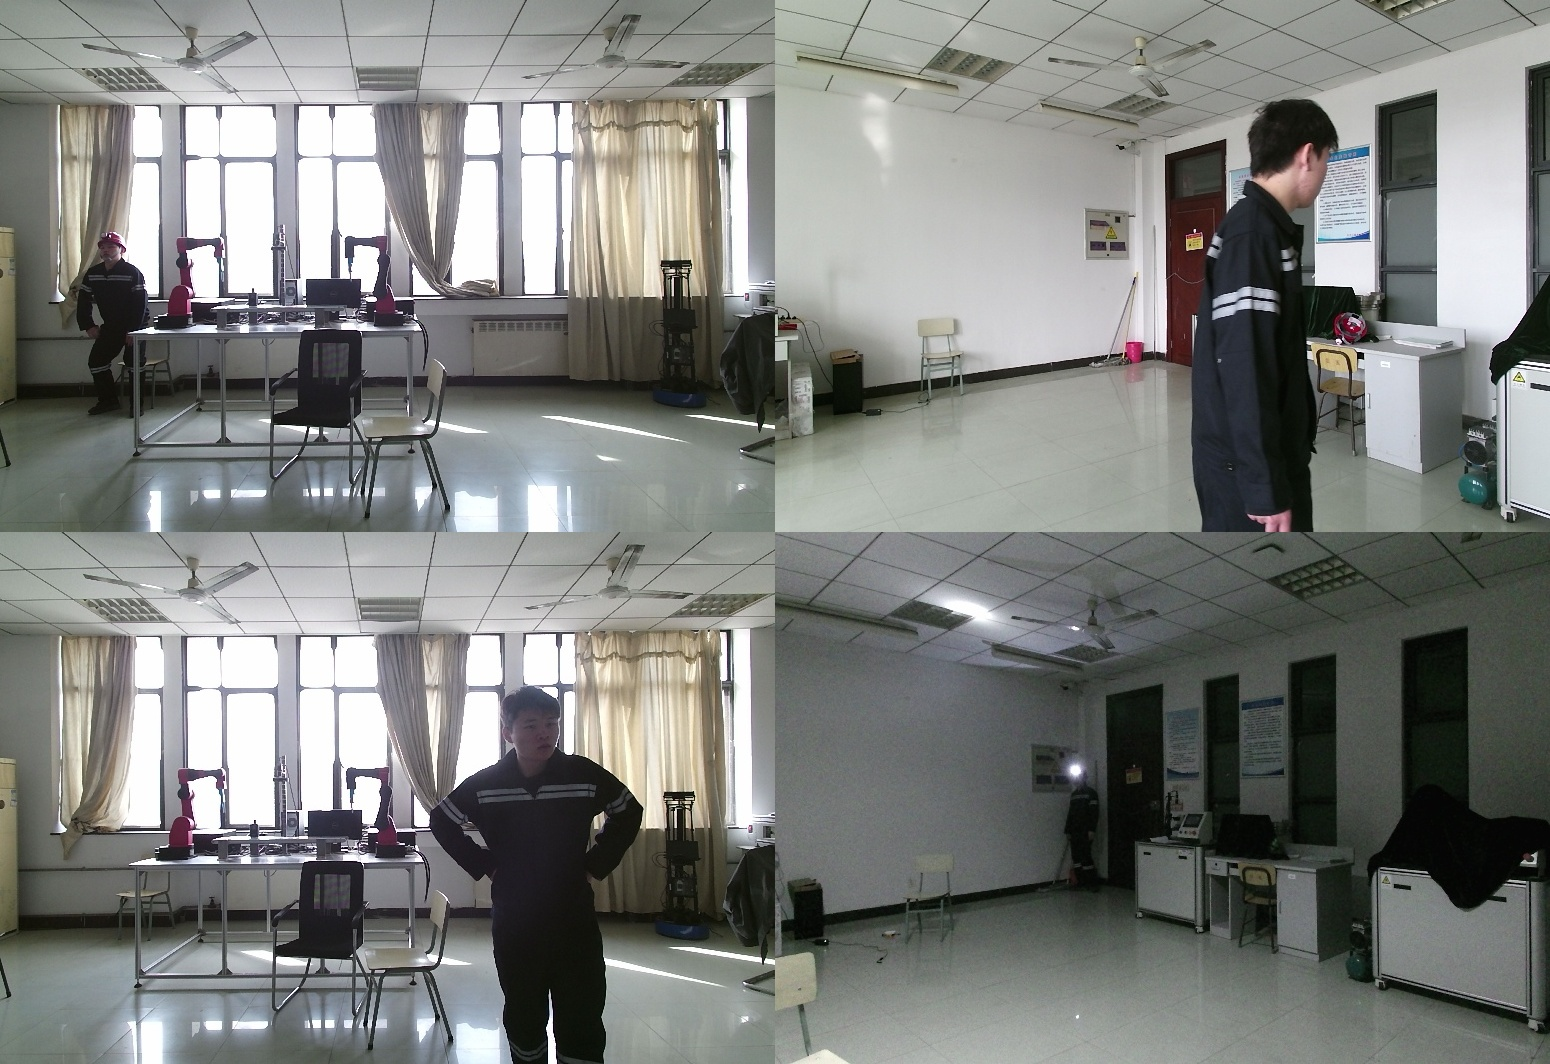person: (437, 684, 674, 1064), (1187, 100, 1335, 532), (70, 229, 149, 417), (1064, 766, 1099, 893)
